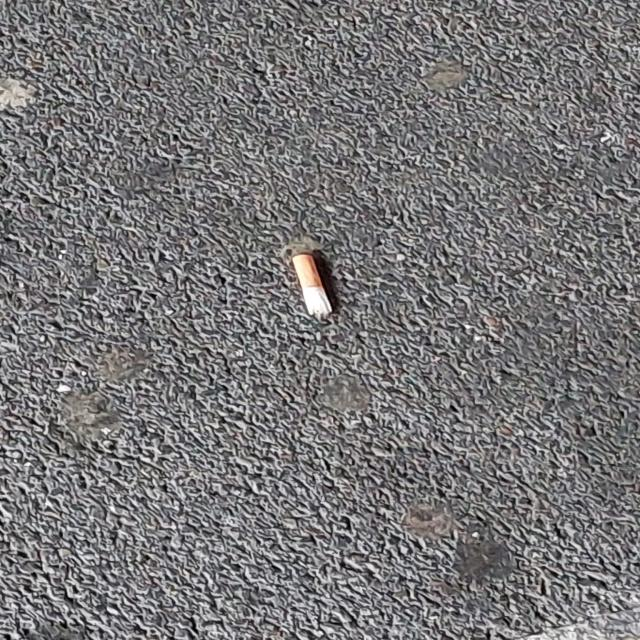other waste: (292, 254, 332, 322)
